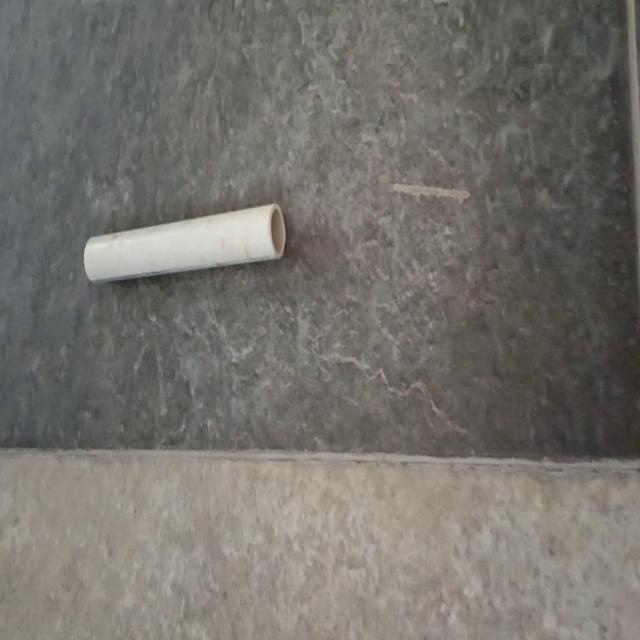Cube: (82, 200, 286, 284)
